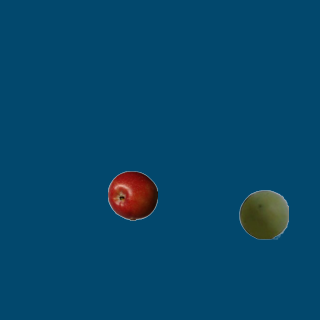Apple Braeburn: (107, 170, 157, 220)
Grape White 4: (238, 189, 288, 239)
